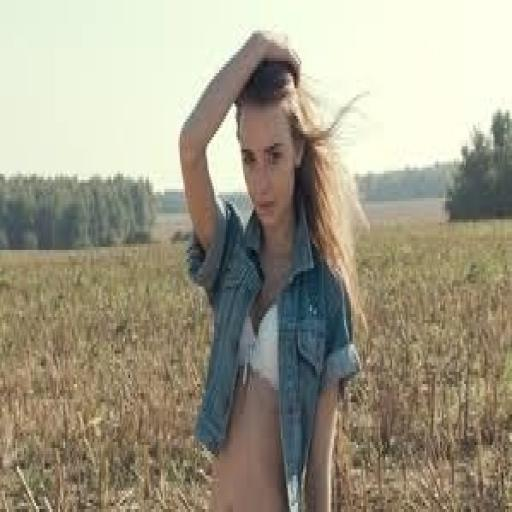dancing: (176, 27, 372, 509)
